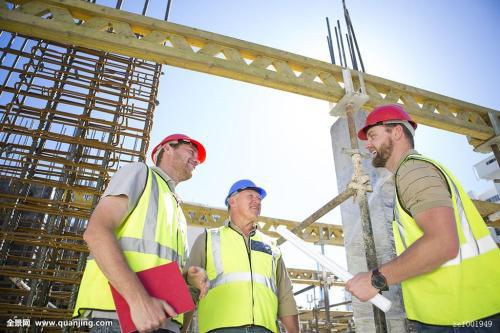helmet: (355, 99, 425, 167), (146, 125, 214, 184), (220, 169, 269, 231)
